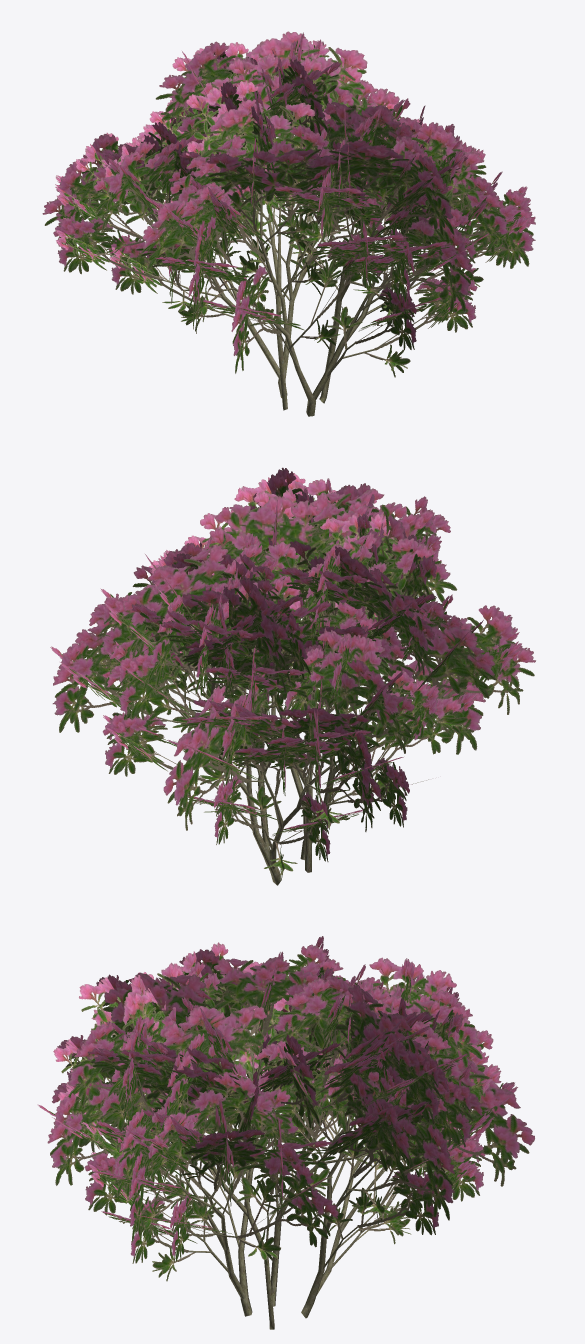
The model's file is RhododendronTsutsuji.glb.
3 renders of one model, top to bottom at view 1: azimuth 30°, elevation 25°; view 2: azimuth 150°, elevation 25°; view 3: azimuth 270°, elevation 25°, orthographic. The views are drawn at different scales.
Parts seen in each view (by area): view 1: Rhododendron_Azaleas__Realistic_LOD3; view 2: Rhododendron_Azaleas__Realistic_LOD3; view 3: Rhododendron_Azaleas__Realistic_LOD3.
Boxes of the visible parts, x1,y1,x2,y2 form: Rhododendron_Azaleas__Realistic_LOD3: (42,31,535,416); Rhododendron_Azaleas__Realistic_LOD3: (50,467,535,885); Rhododendron_Azaleas__Realistic_LOD3: (37,936,534,1329).
Bounding box in the file's own units: 1.11 × 0.9381 × 1.24.
1 material, 1 textured.
